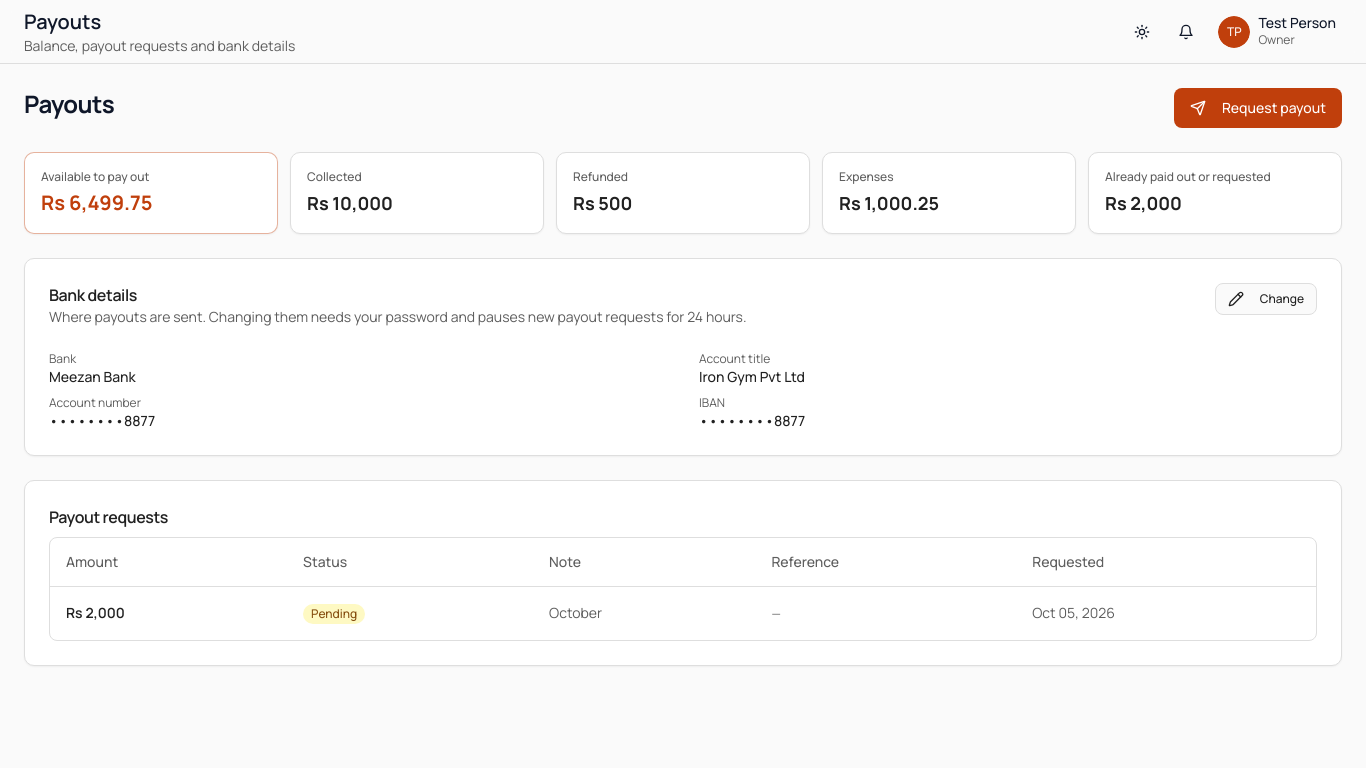
Test case: Bank details need re-authentication (SEC-13, NEW-35) › the Save button is disabled without a password
The width and height of the screenshot is (1366, 768).
Click the button "Change" at (1266, 299), box [1215, 283, 1317, 315]
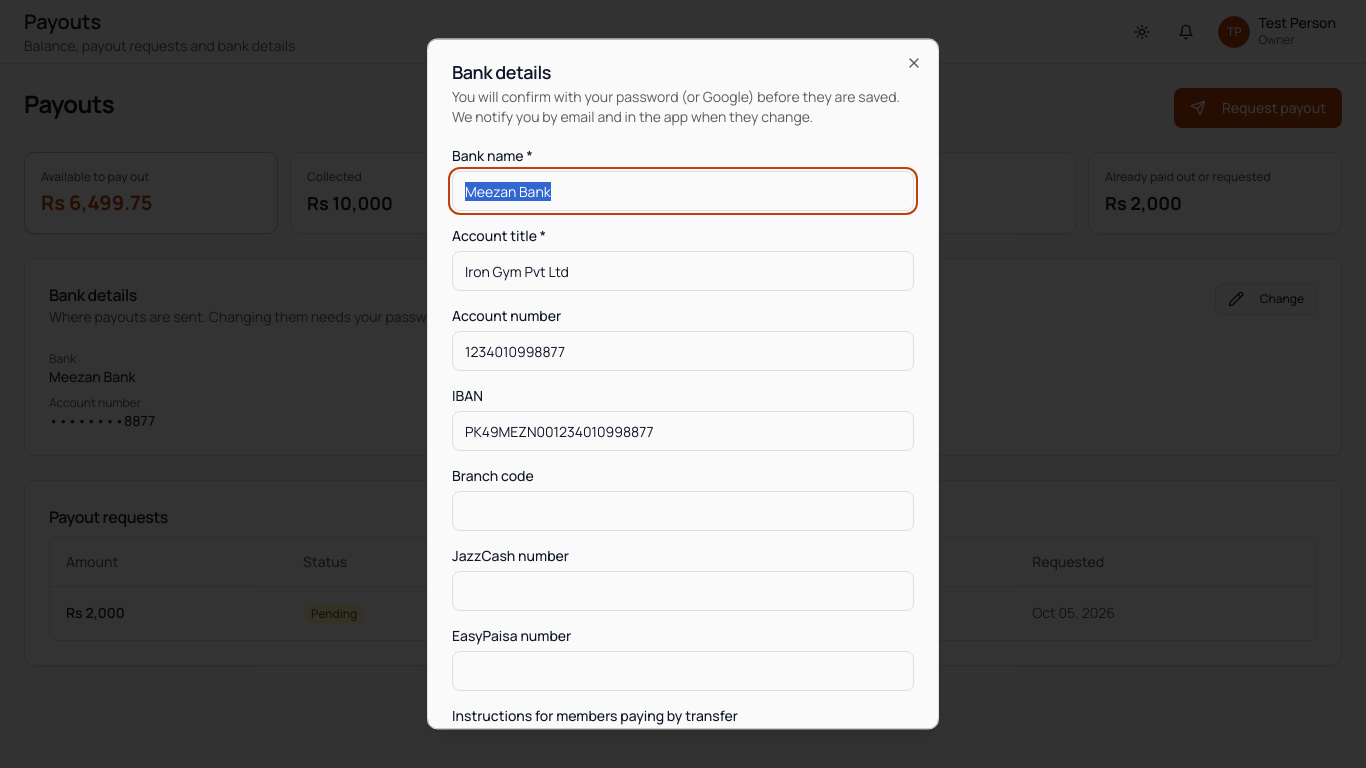
Replace the text in the field labelled "Account number" with "9998887776665" at (683, 351), box [452, 331, 914, 371]
(page scrolled)
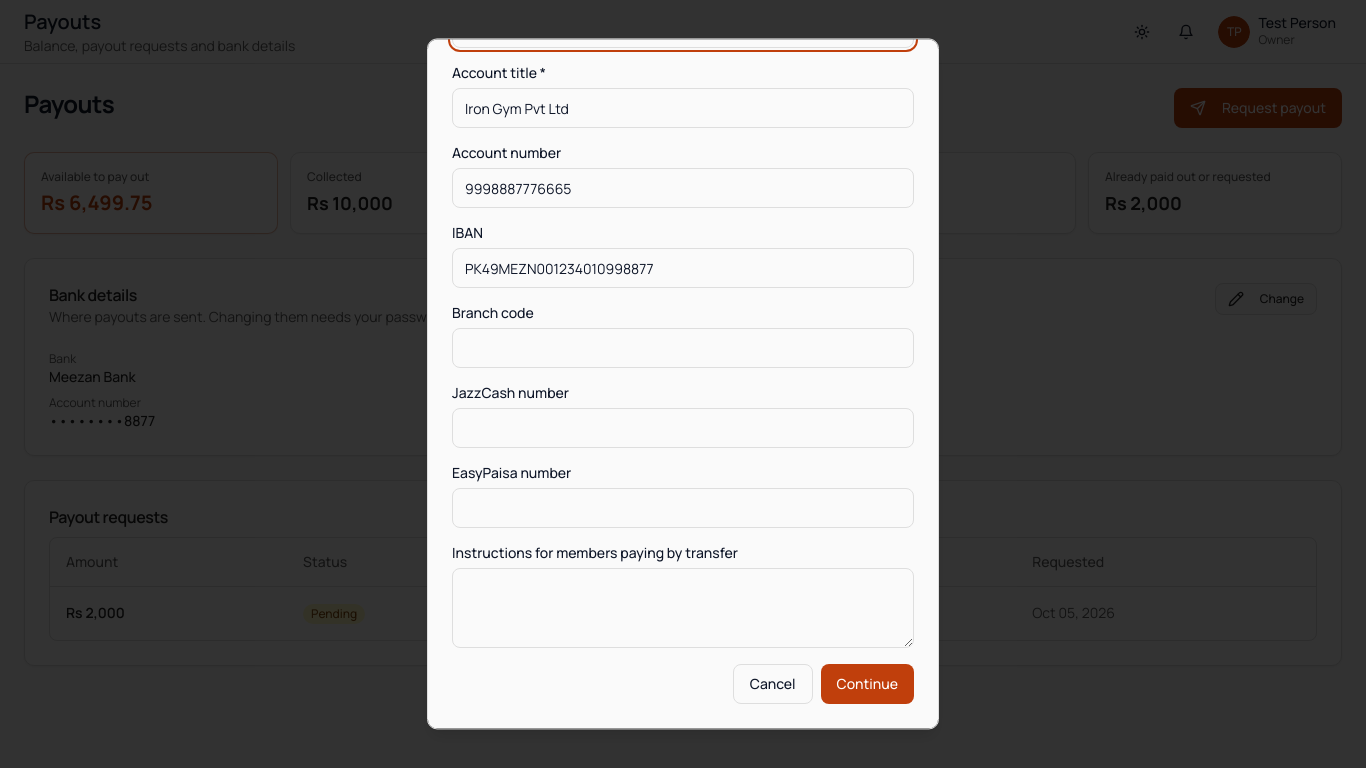
Click the button "Continue" at (867, 684), box [821, 664, 914, 704]
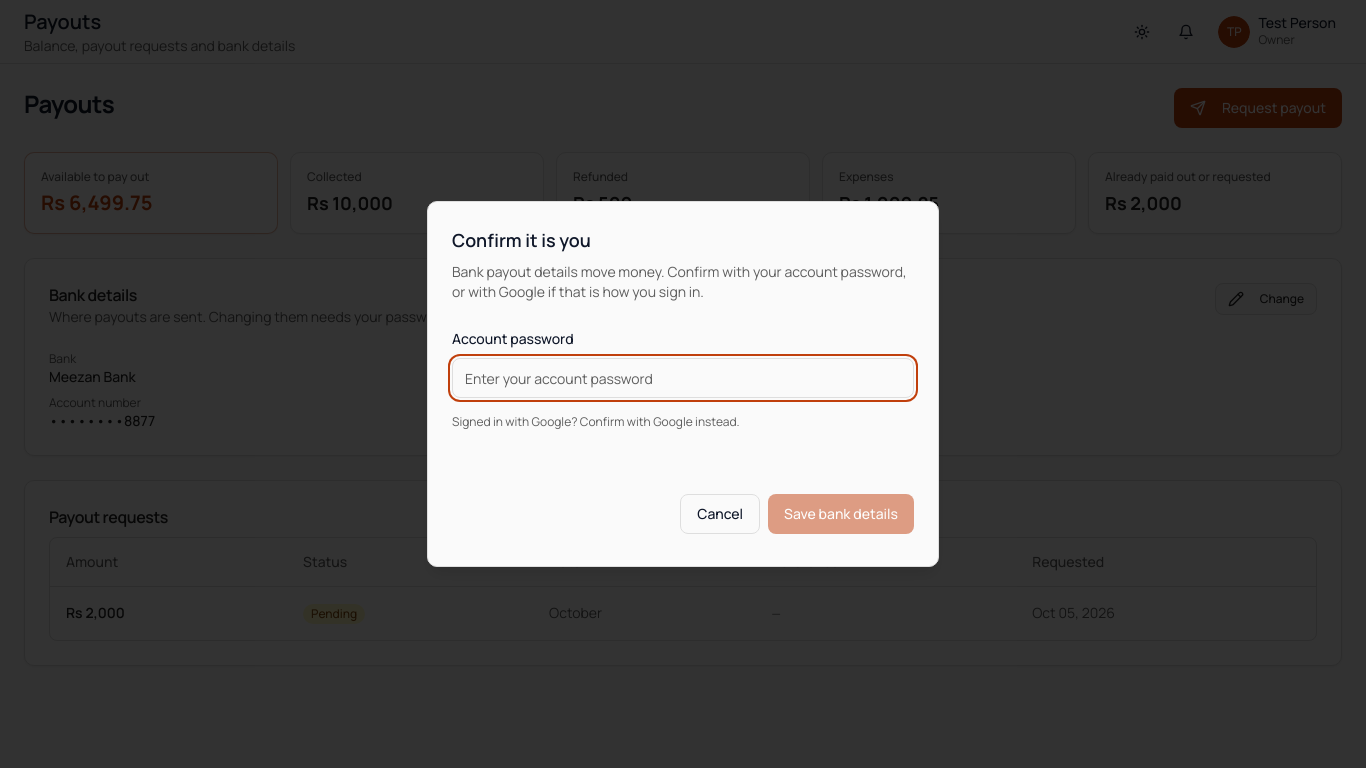
expect the button "Save bank details" is disabled: met, box [768, 494, 914, 534]
